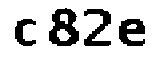2: (84, 5, 113, 52)
8: (47, 5, 81, 53)
c: (12, 17, 39, 51)
e: (120, 17, 149, 51)
